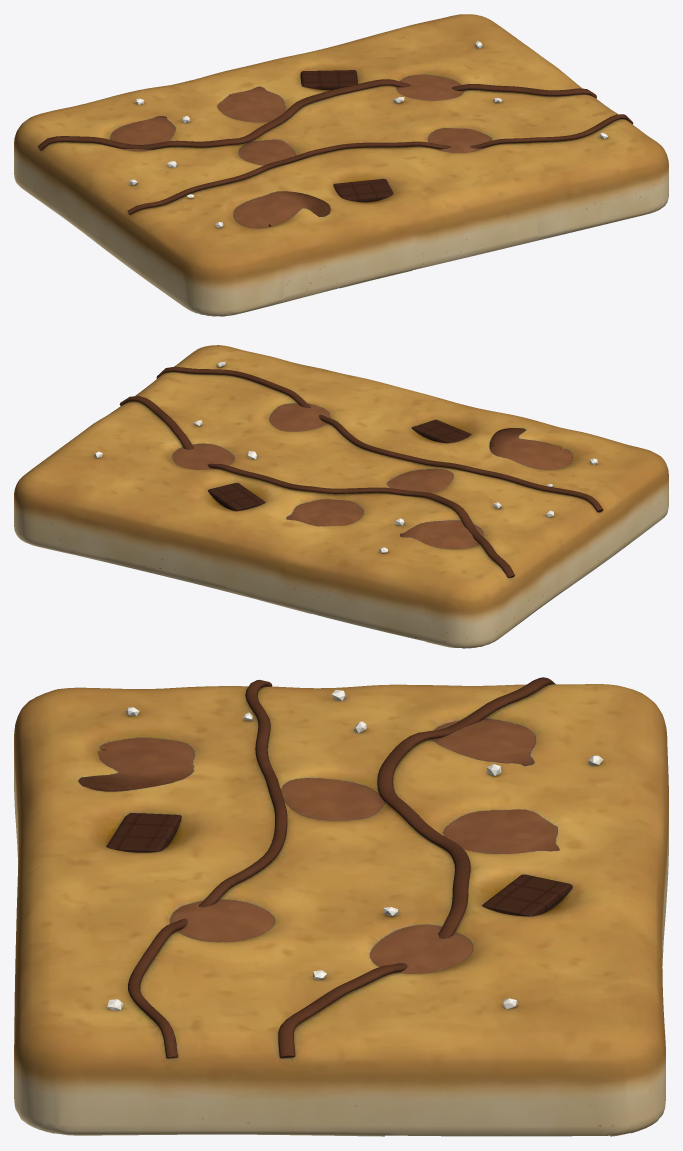
Rendered from focaccia--choco-chip.glb.
The picture shows the model from 3 angles, top to bottom: view 1: azimuth 30°, elevation 25°; view 2: azimuth 150°, elevation 25°; view 3: azimuth 270°, elevation 25°; orthographic projection. The views are drawn at different scales.
Visible parts, largest first — view 1: focaccia_choco-chip; view 2: focaccia_choco-chip; view 3: focaccia_choco-chip.
Part boxes in pixels (x1,y1,x2,y2): focaccia_choco-chip: [14, 14, 668, 316]; focaccia_choco-chip: [14, 345, 668, 648]; focaccia_choco-chip: [14, 677, 668, 1136].
Bounding box in the file's own units: 1.01 × 0.1353 × 0.7441.
1 material, 1 textured.
